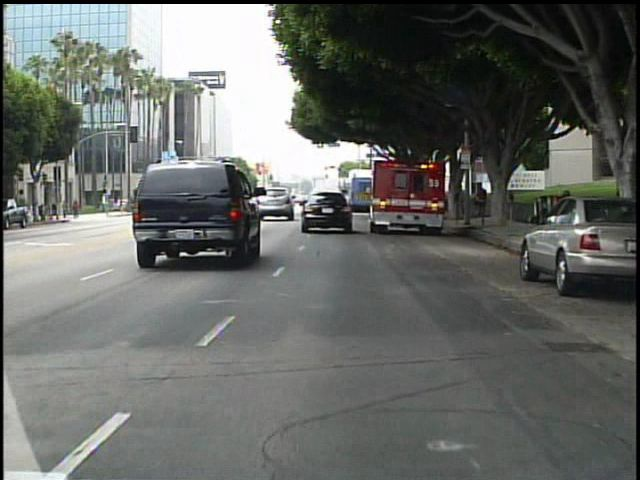person: (475, 185, 489, 219), (71, 196, 84, 222), (60, 197, 72, 221)
